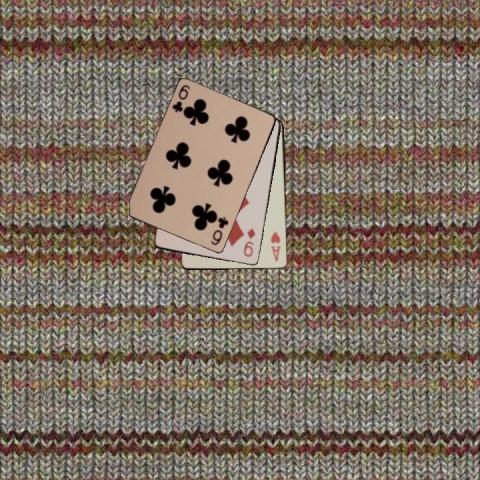6c: (207, 214, 230, 247), (170, 82, 192, 114)
9d: (240, 225, 256, 259)
Ah: (268, 228, 282, 262)
